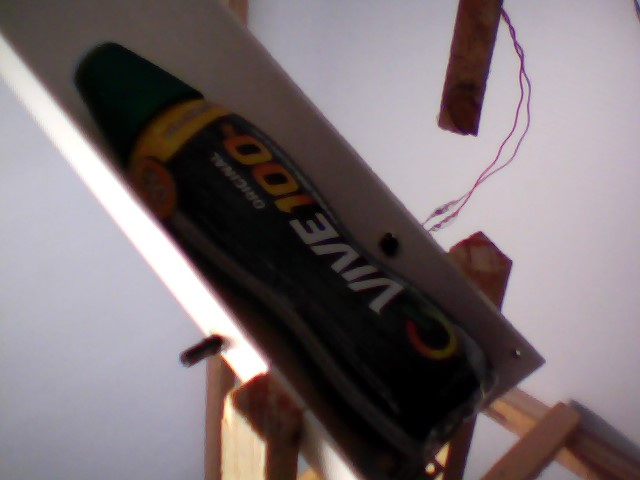plastico: (72, 36, 521, 476)
